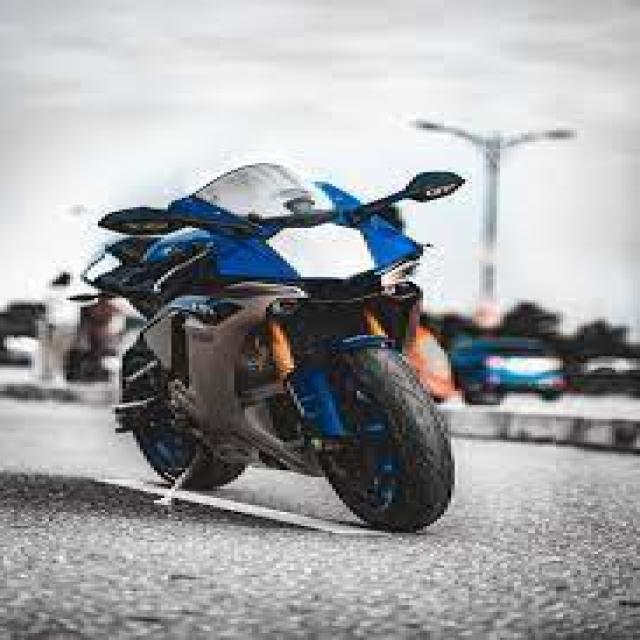bike: (80, 161, 482, 512)
